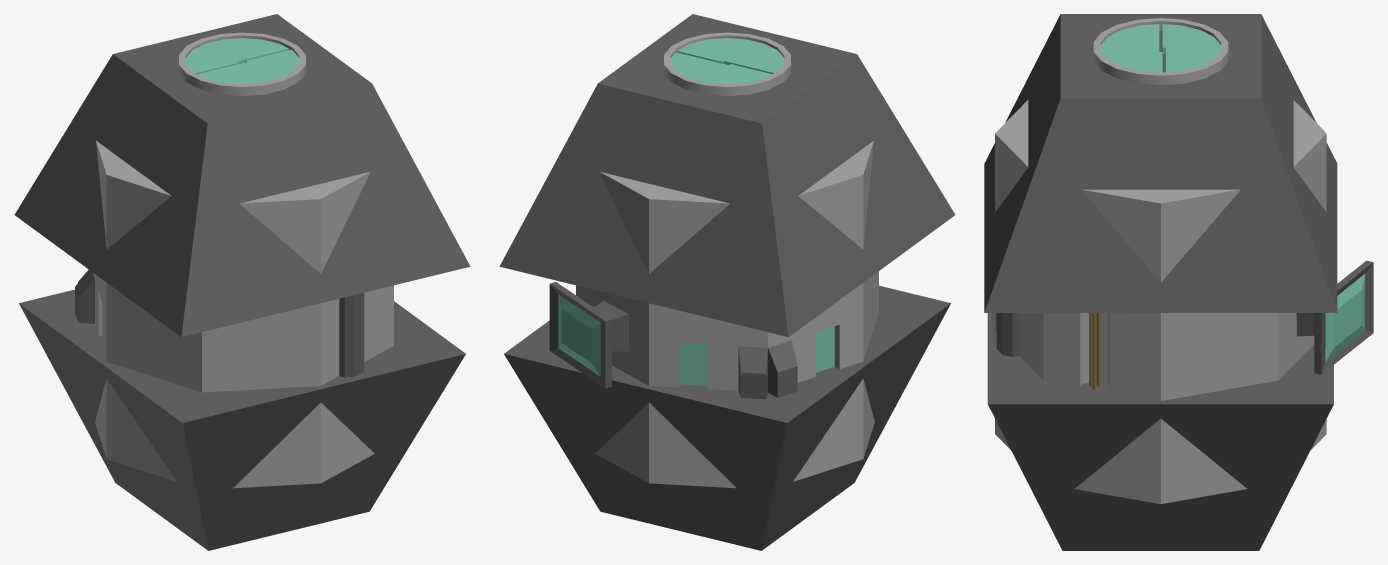
File: NotAPlug1.fbx
The picture shows the model from 3 angles, left to right: view 1: azimuth 30°, elevation 25°; view 2: azimuth 150°, elevation 25°; view 3: azimuth 270°, elevation 25°; orthographic projection. The views are drawn at different scales.
Parts seen in each view (by area): view 1: NotAPlug1; view 2: NotAPlug1; view 3: NotAPlug1.
Boxes of the visible parts, x1=… form: NotAPlug1: x1=14, y1=14, x2=470, y2=550; NotAPlug1: x1=499, y1=14, x2=955, y2=550; NotAPlug1: x1=984, y1=14, x2=1373, y2=550.
Bounding box in the file's own units: 17.59 × 25.94 × 19.39.
